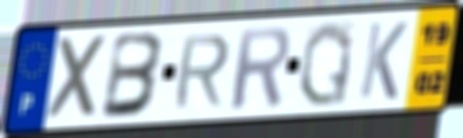B: (98, 30, 168, 122)
K: (356, 19, 411, 102)
Q: (296, 18, 356, 110)
R: (228, 24, 293, 113), (170, 31, 233, 112)
X: (45, 32, 112, 124)
